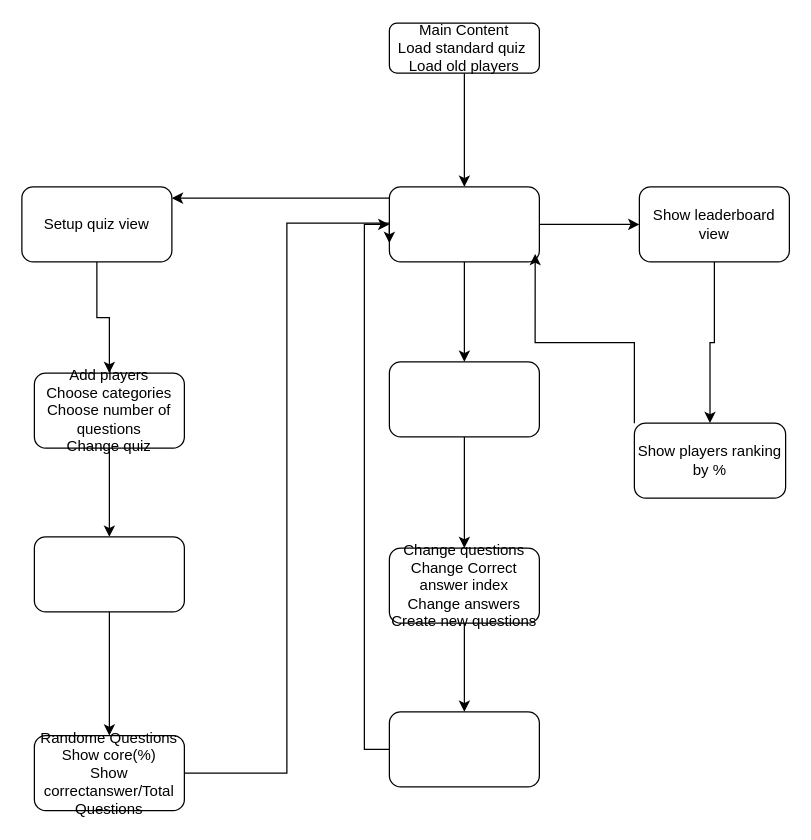
This 811x840 diagram has some shape labels left out. Each missing label, with the box of its shape:
Edit questions view: (388, 361, 539, 437)
Menu View: (388, 186, 539, 262)
Play quiz view: (33, 536, 184, 612)
Save to txt (json): (388, 711, 539, 787)
